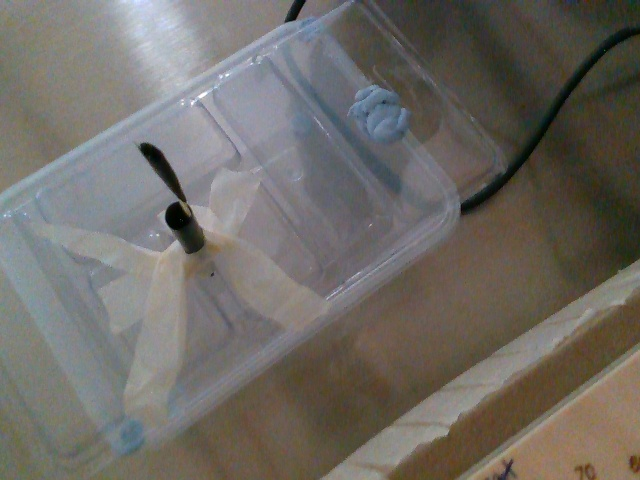test_strip: (137, 140, 190, 215)
